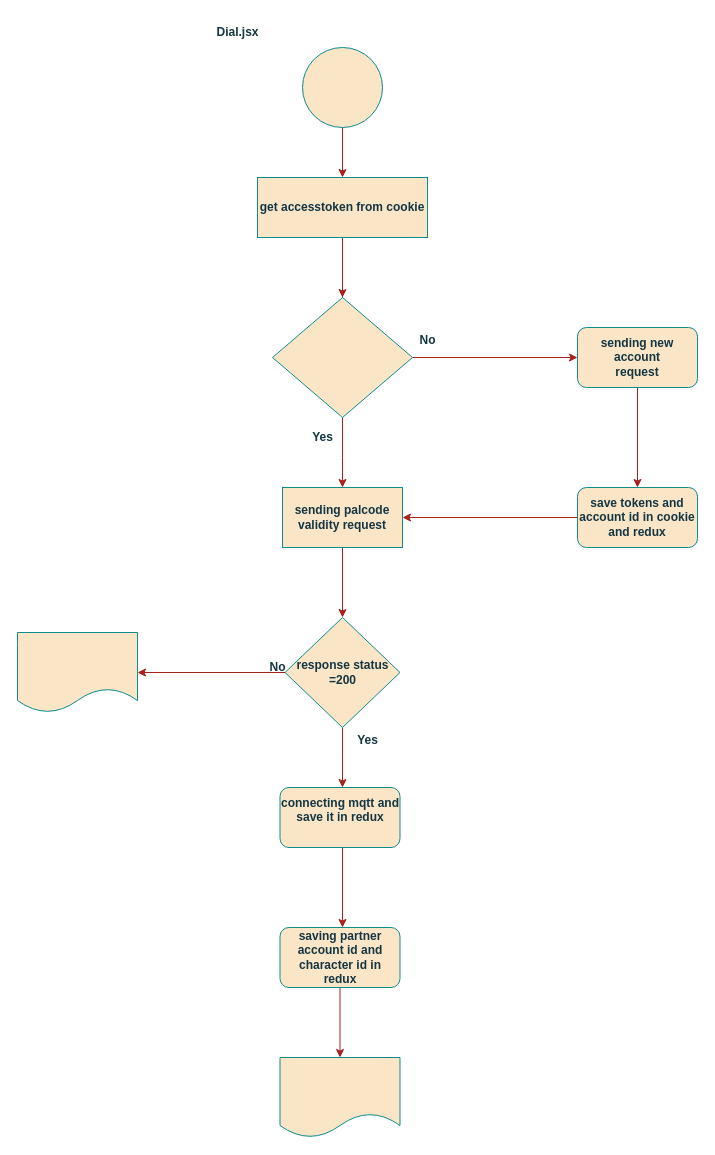
The diagram is 715 pixels wide and 1155 high, and some of its shapes have lost their labels. The centre of each missing label's shape, as x and y in pixels:
"click on Dial" belongs at (x=342, y=87).
"is acessToken in cookie" belongs at (x=342, y=357).
"showing invalid message toast" belongs at (x=77, y=672).
"showing palcode expiration modal" belongs at (x=339, y=1097).
